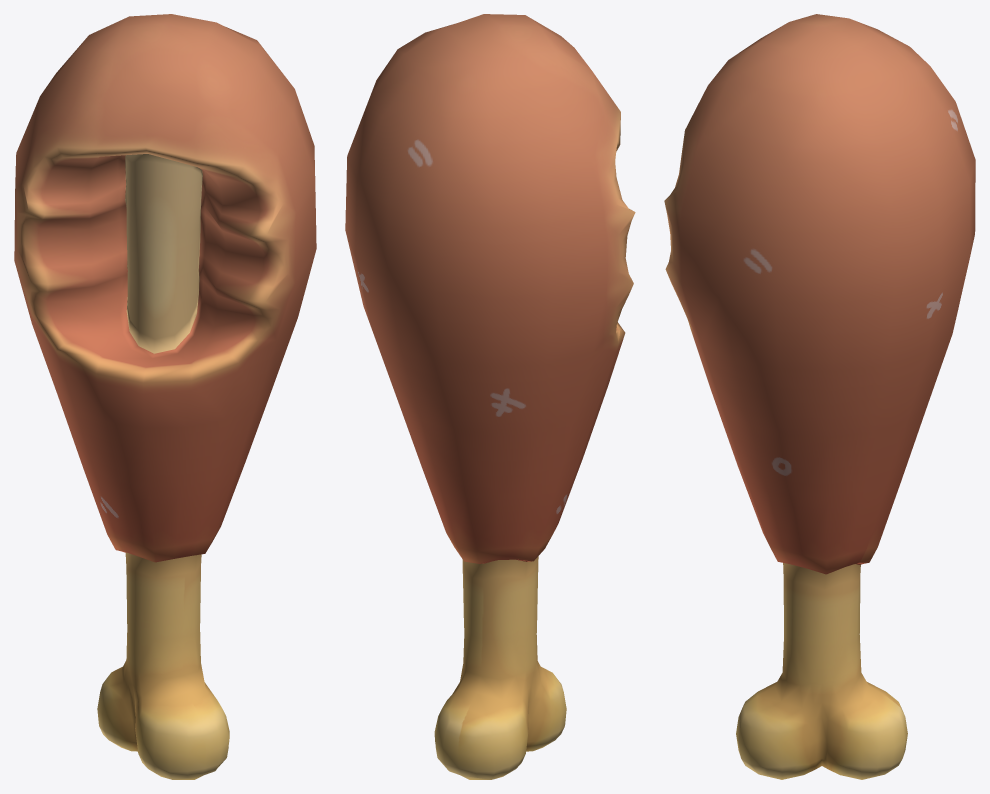
The model's file is Chicken_HalfEaten.fbx.
The picture shows the model from 3 angles, left to right: view 1: azimuth 30°, elevation 25°; view 2: azimuth 150°, elevation 25°; view 3: azimuth 270°, elevation 25°; orthographic projection.
Visible parts, largest first — view 1: Chicken_HalfEaten; view 2: Chicken_HalfEaten; view 3: Chicken_HalfEaten.
Boxes of the visible parts, left/top/right/bottom form: Chicken_HalfEaten: left=14, top=14, right=316, bottom=779; Chicken_HalfEaten: left=345, top=14, right=635, bottom=779; Chicken_HalfEaten: left=664, top=14, right=975, bottom=779.
Bounding box in the file's own units: 904 × 2364 × 891.
